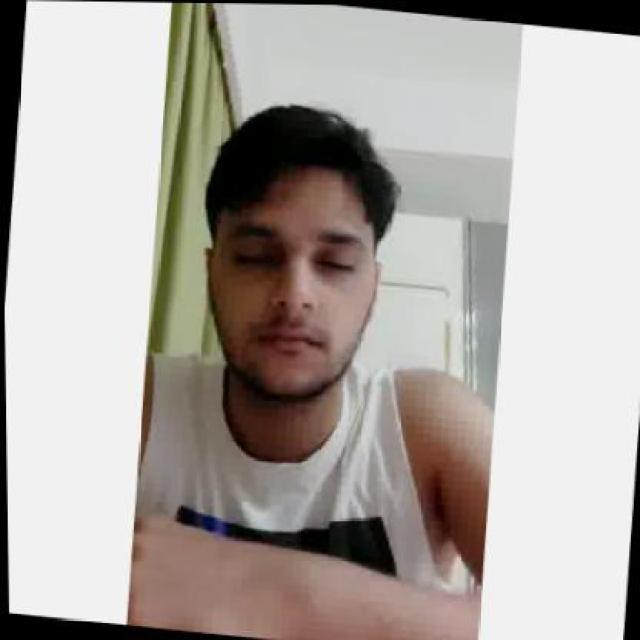inattentif: (188, 89, 402, 412)
